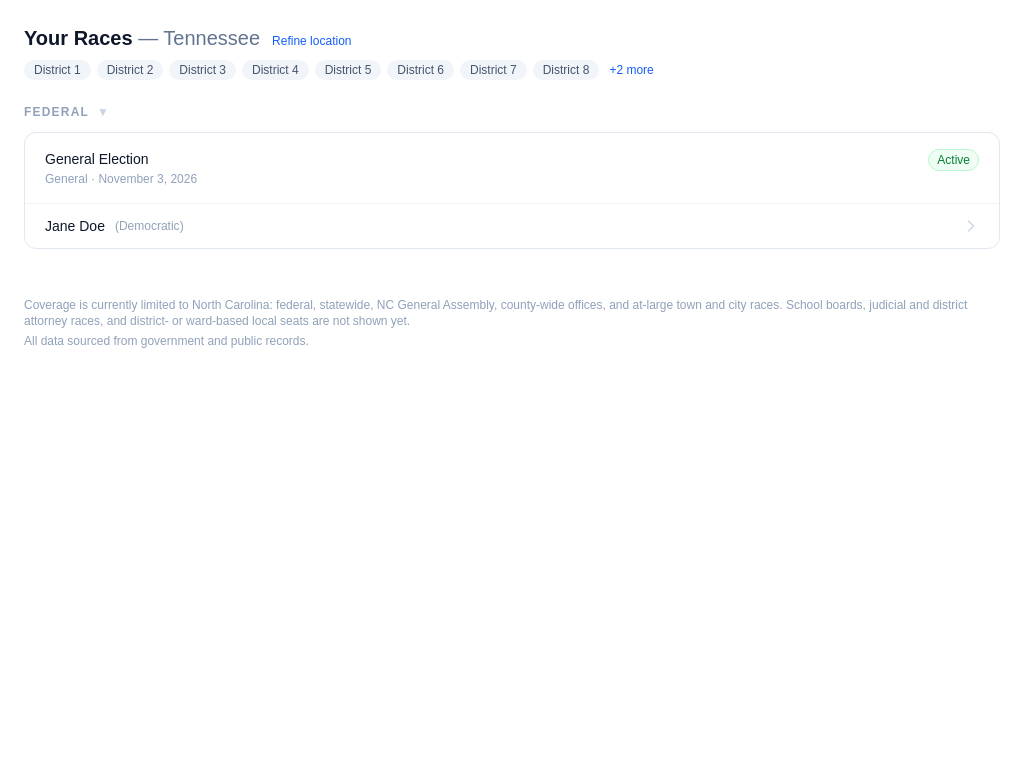
Test: Dashboard › shows only the first 8 district chips with a '+N more' button, and toggles the district panel
Check: the button "District 1" is shown, box [24, 60, 91, 80]
Check: the button "District 2" is shown, box [97, 60, 163, 80]
Step 1. Click the button "+2 more" → (632,70), box [605, 60, 658, 80]
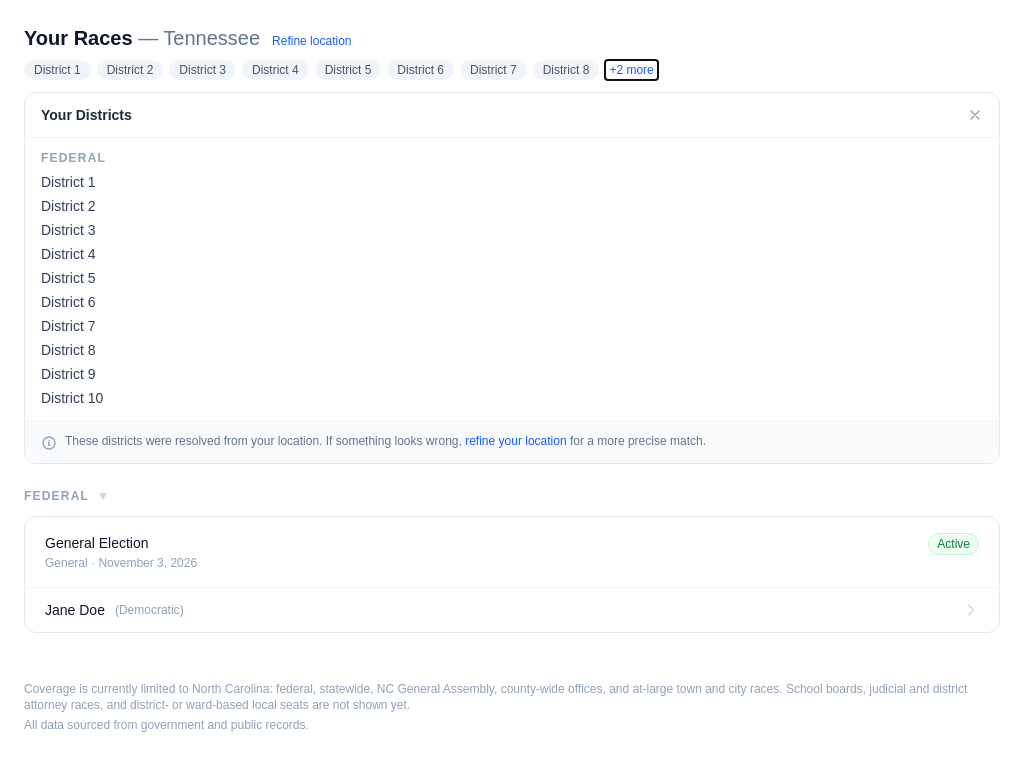
Check: the heading "Your Districts" is shown, box [41, 105, 132, 125]
Step 2. Click the button named "Close district panel" → (975,115), box [967, 107, 983, 123]
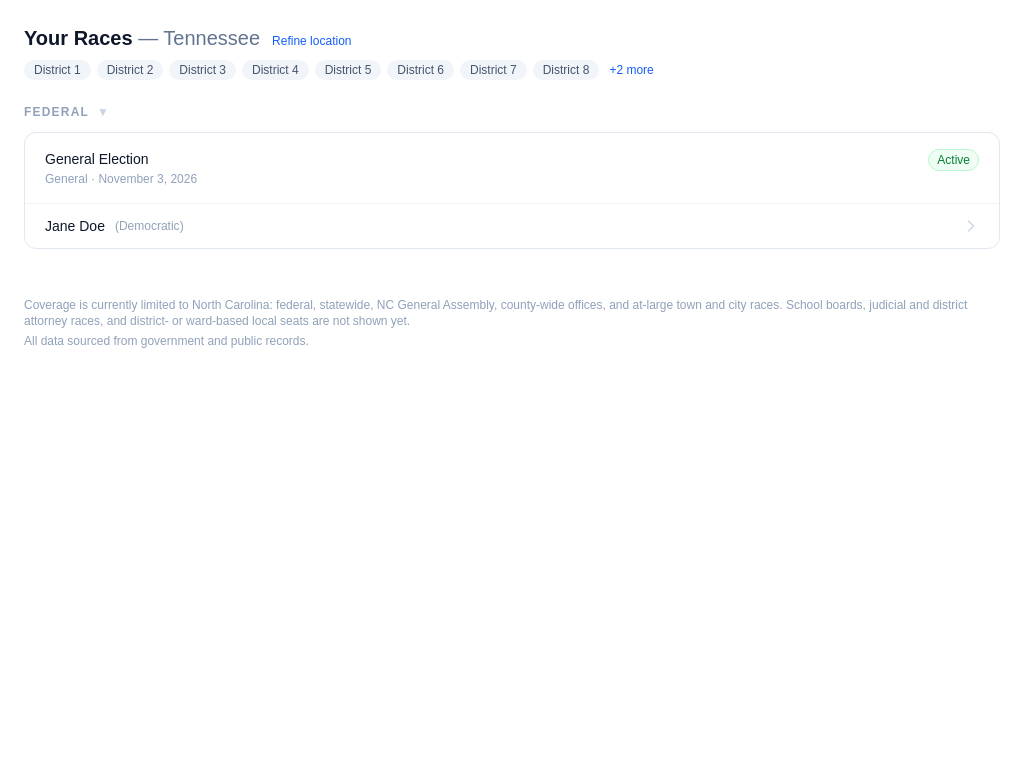
Check: the heading "Your Districts" is gone
